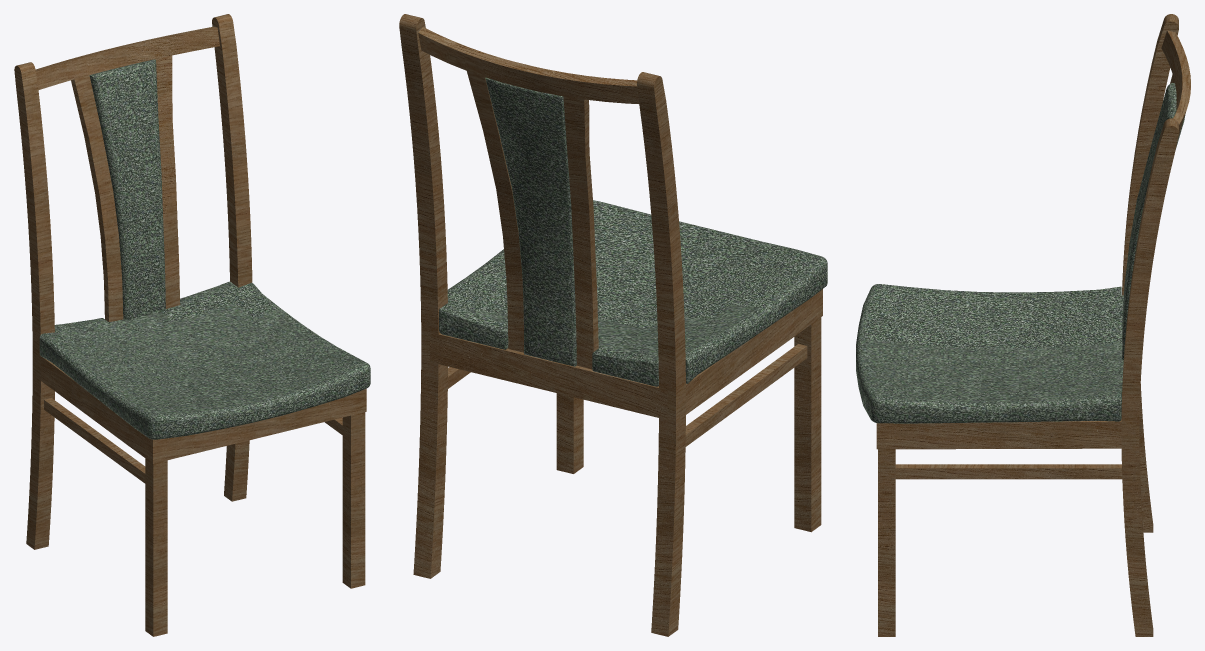
File: Silla.glb
The picture shows the model from 3 angles, left to right: view 1: azimuth 30°, elevation 25°; view 2: azimuth 150°, elevation 25°; view 3: azimuth 270°, elevation 25°; orthographic projection. The views are drawn at different scales.
Visible parts, largest first — view 1: Geom3D (×16); view 2: Geom3D (×18); view 3: Geom3D (×10).
Boxes of the visible parts, x1,y1,x2,y2 form: Geom3D (×16): (14,17,370,636); Geom3D (×18): (399,14,827,636); Geom3D (×10): (856,21,1190,636).
Bounding box in the file's own units: 0.4704 × 0.95 × 0.5642.
Materials: 4 (3 with a texture image).
